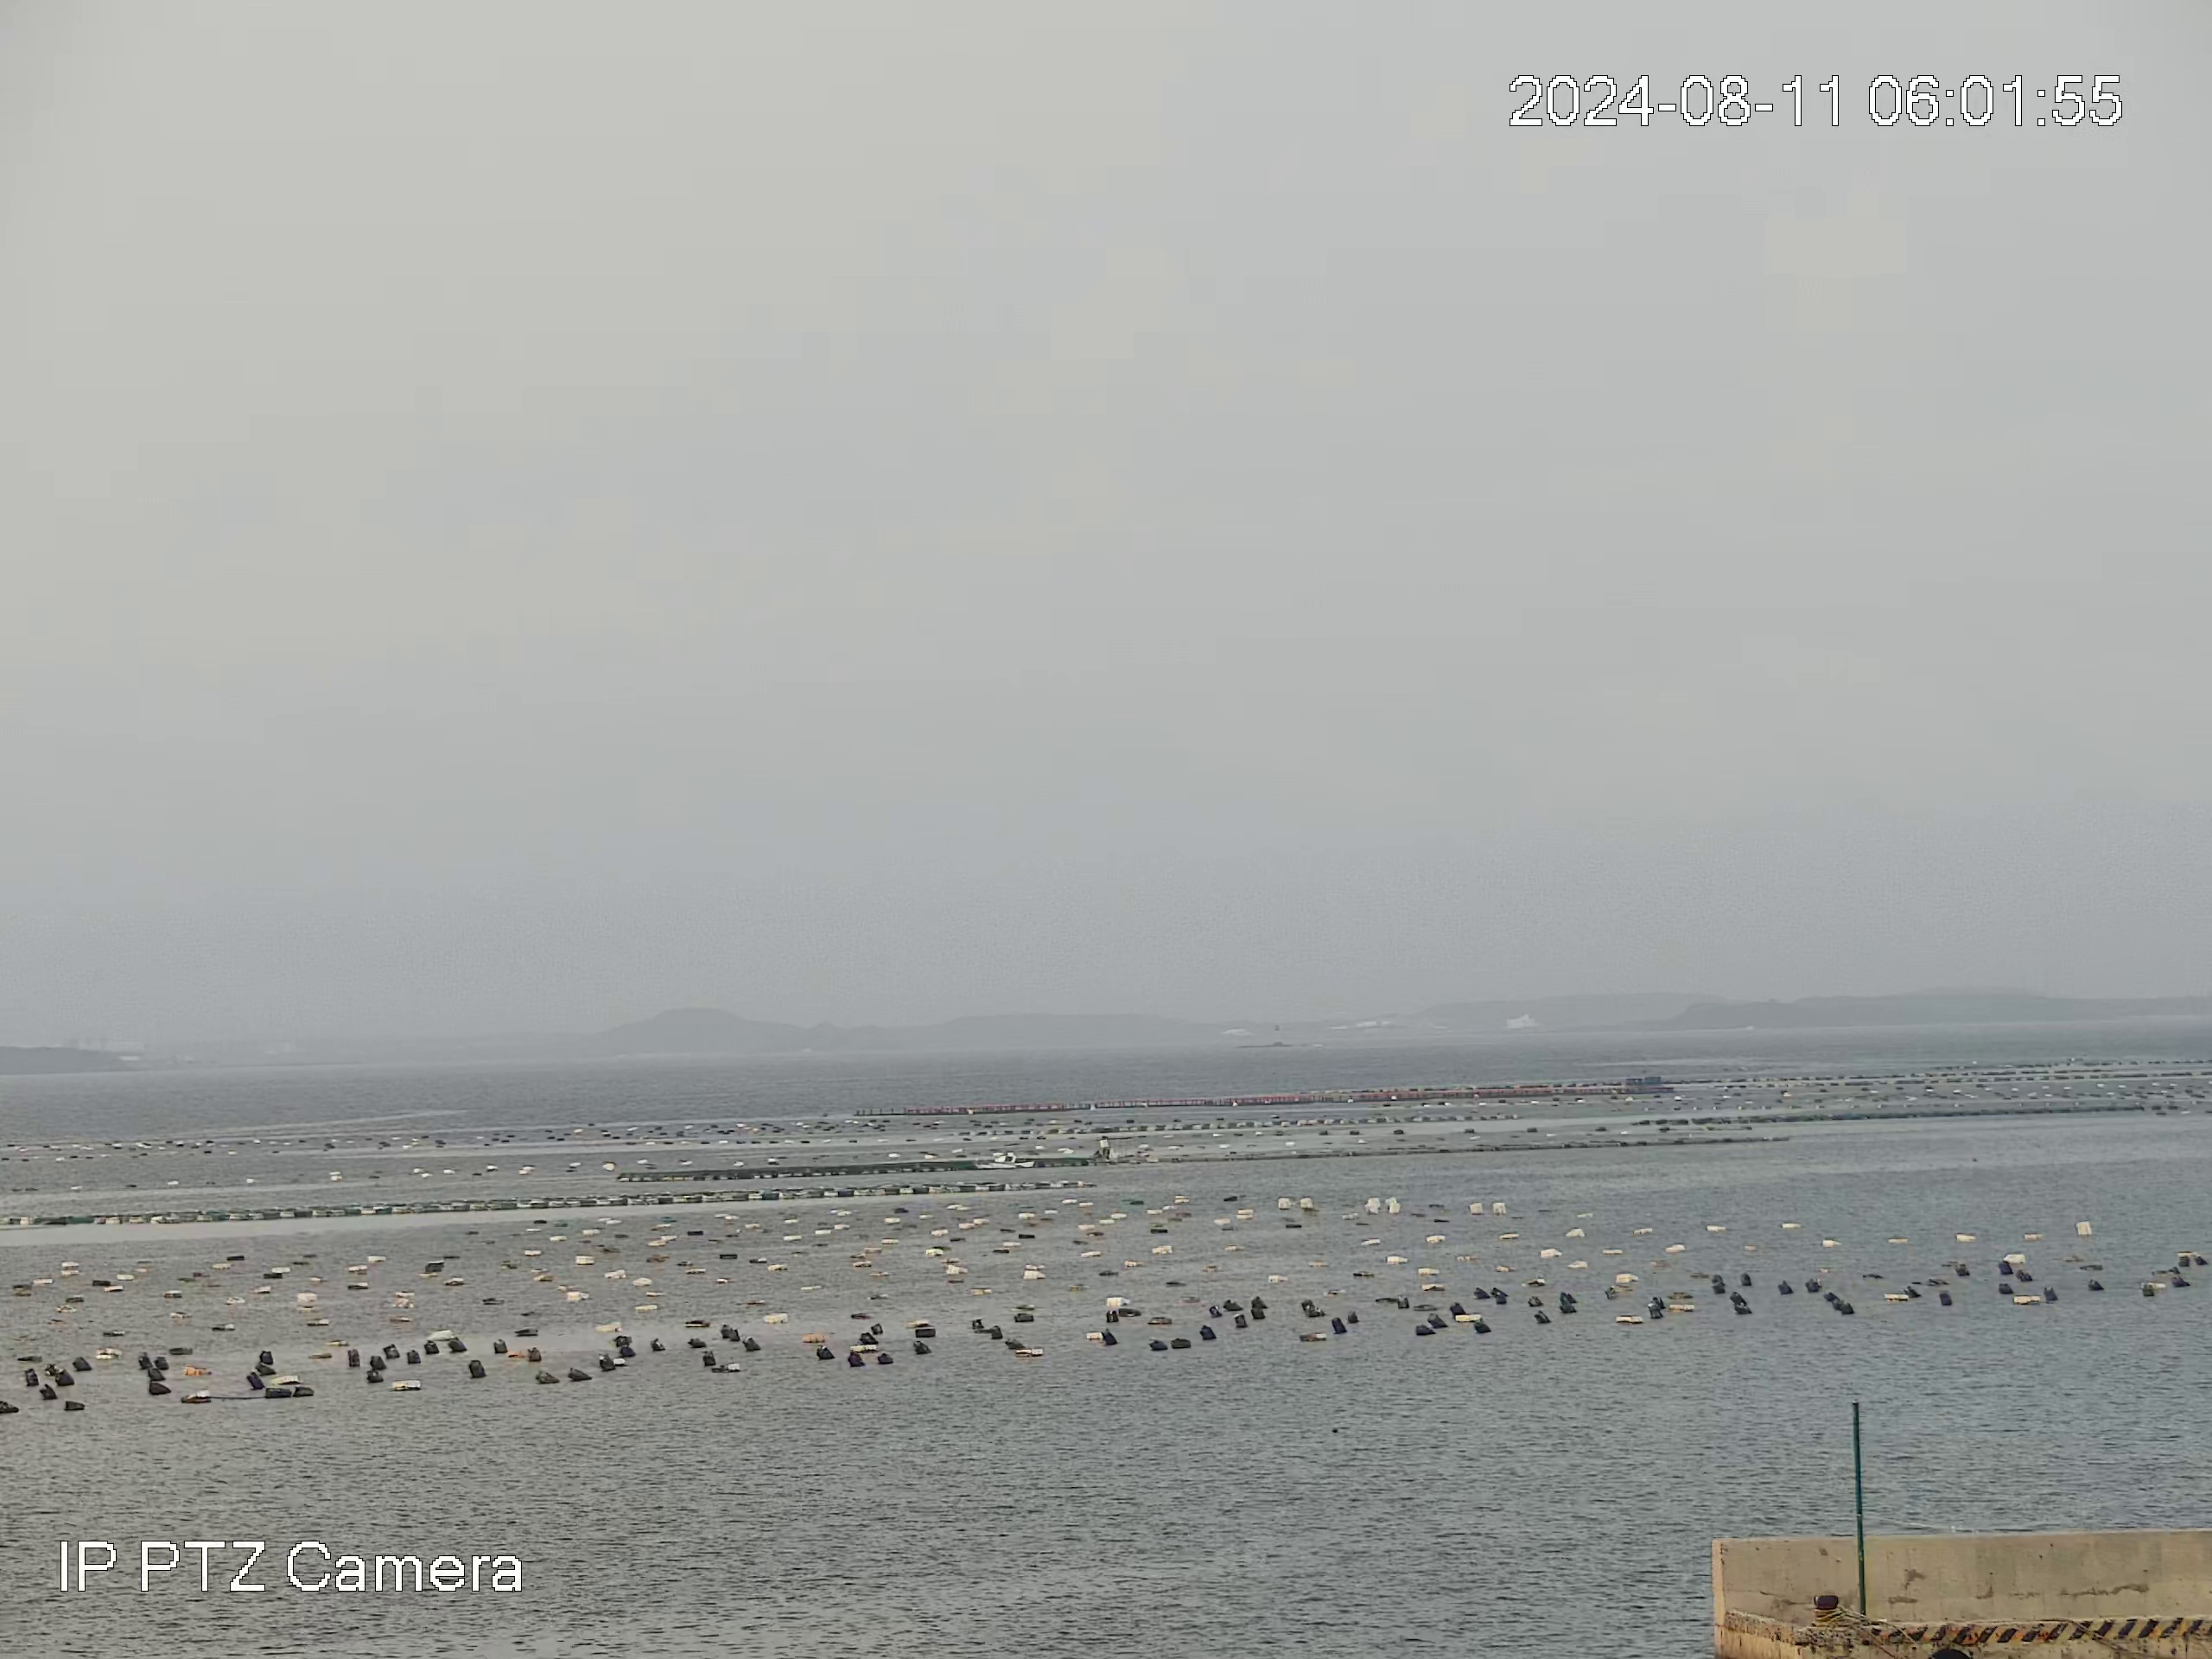boat: (968, 1150, 1036, 1169)
